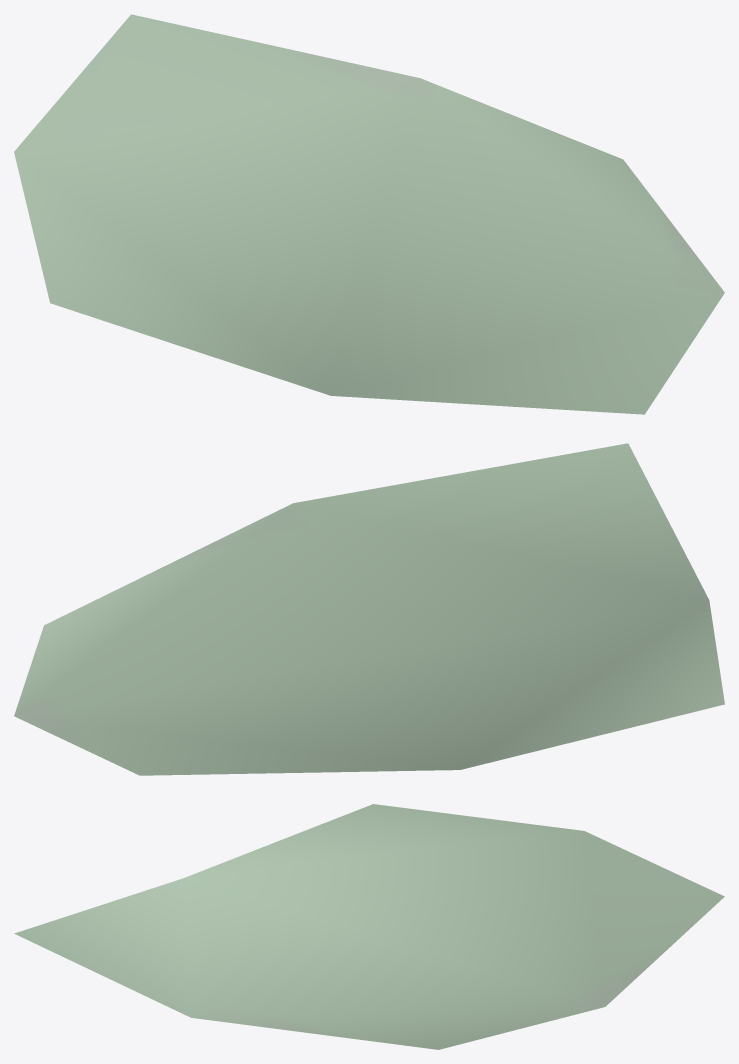
The model's file is TROLLHOLE02_HOLECAP174.fbx.
The picture shows the model from 3 angles, top to bottom: view 1: azimuth 30°, elevation 25°; view 2: azimuth 150°, elevation 25°; view 3: azimuth 270°, elevation 25°; orthographic projection. The views are drawn at different scales.
Visible parts, largest first — view 1: TROLLHOLE02_HOLECAP174; view 2: TROLLHOLE02_HOLECAP174; view 3: TROLLHOLE02_HOLECAP174.
Boxes of the visible parts, left/top/right/bottom form: TROLLHOLE02_HOLECAP174: left=14, top=14, right=724, bottom=414; TROLLHOLE02_HOLECAP174: left=14, top=443, right=724, bottom=775; TROLLHOLE02_HOLECAP174: left=14, top=804, right=724, bottom=1049.
Size of the model in its own units: 29966 by 3272 by 41521.
1 material, 1 textured.
